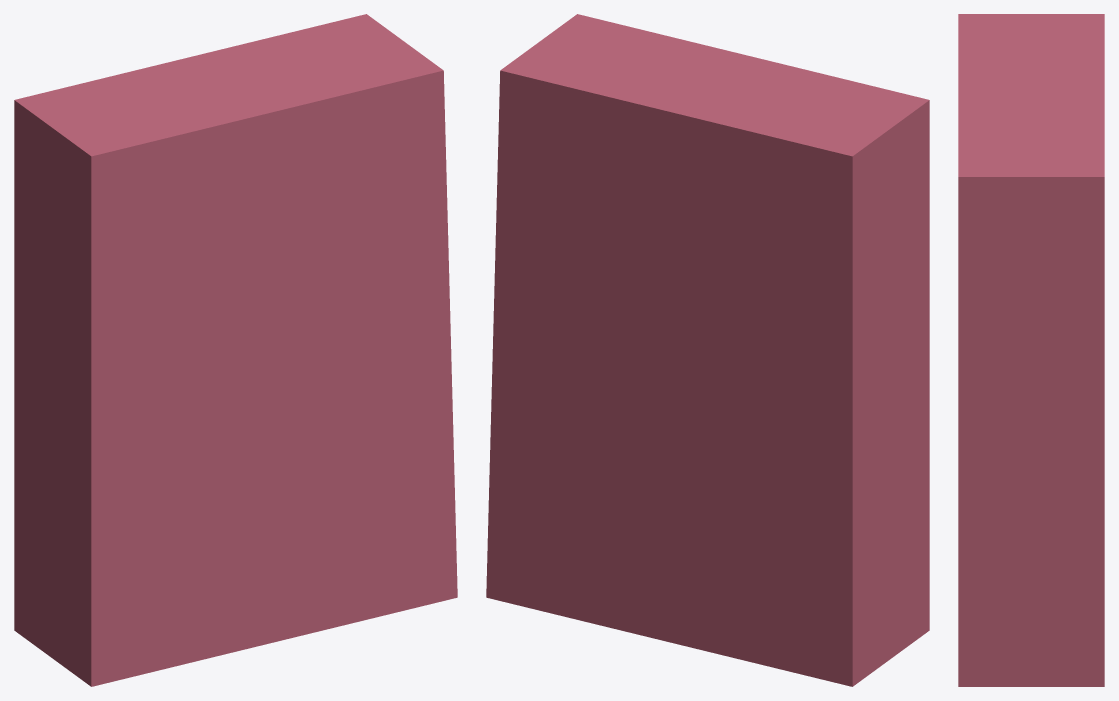
The picture shows the model from 3 angles, left to right: view 1: azimuth 30°, elevation 25°; view 2: azimuth 150°, elevation 25°; view 3: azimuth 270°, elevation 25°; orthographic projection. The views are drawn at different scales.
Visible parts, largest first — view 1: geometry_0; view 2: geometry_0; view 3: geometry_0.
Boxes of the visible parts, box(x1,y1,x2,y2) form: geometry_0: box(14, 14, 457, 686); geometry_0: box(486, 14, 929, 686); geometry_0: box(958, 14, 1104, 686).
Size of the model in its own units: 8.22 by 11.38 by 3.
